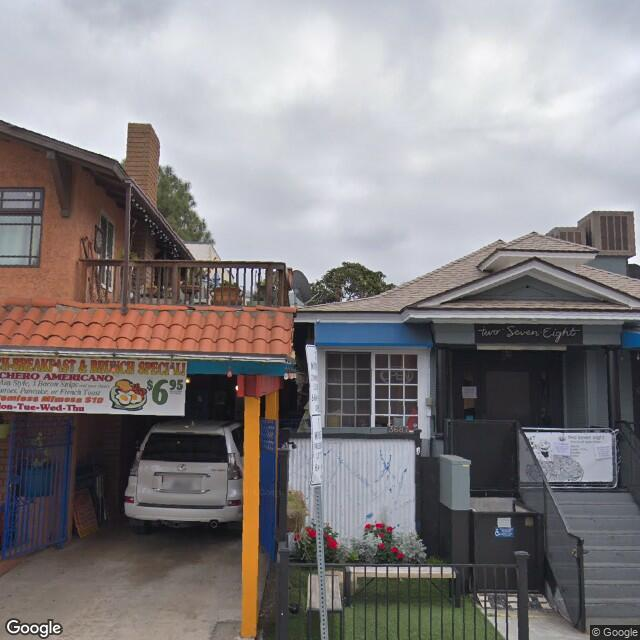window: (327, 346, 425, 435), (456, 358, 579, 424), (1, 183, 48, 269)
